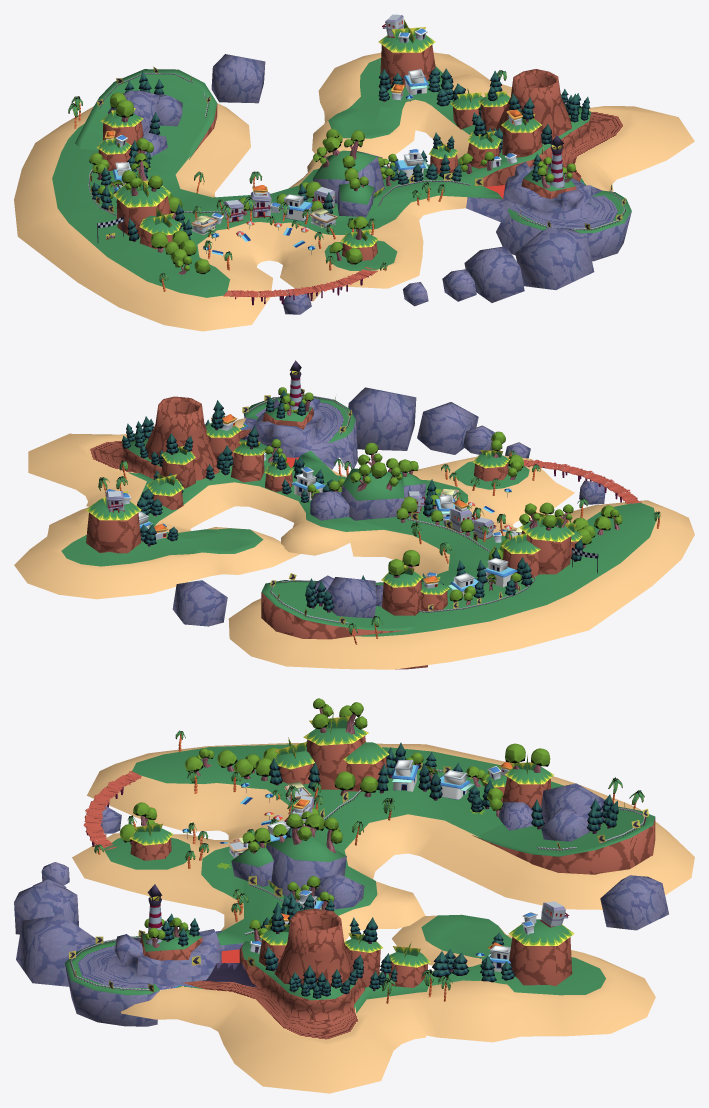
File: Map64.glb
3 renders of one model, top to bottom at view 1: azimuth 30°, elevation 25°; view 2: azimuth 150°, elevation 25°; view 3: azimuth 270°, elevation 25°, orthographic. The views are drawn at different scales.
Visible parts, largest first — view 1: Plane.007; view 2: Plane.007; view 3: Plane.007.
Part boxes in pixels (x1,y1,x2,y2): Plane.007: (14,14,694,331); Plane.007: (14,360,694,669); Plane.007: (14,698,694,1093).
Bounding box in the file's own units: 429 × 72.71 × 355.
27 materials, 27 textured.
